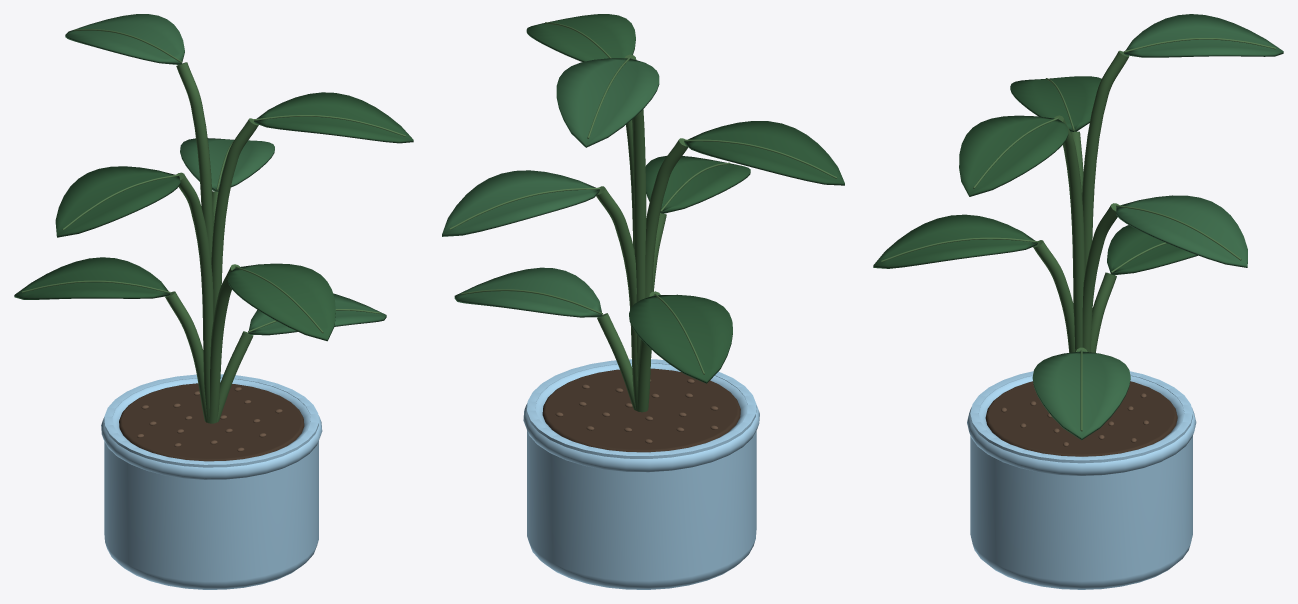
Rendered from plantTallBlue.glb.
The picture shows the model from 3 angles, left to right: view 1: azimuth 30°, elevation 25°; view 2: azimuth 150°, elevation 25°; view 3: azimuth 270°, elevation 25°; orthographic projection. The views are drawn at different scales.
Visible parts, largest first — view 1: Ceramic planter, Soil, Leaf blade 3, Leaf blade 5, Leaf blade 6, Pot rim, Leaf blade 2, Leaf blade 7, Leaf blade 4, Stem.004, Stem.005, Stem.006 (+4 smaller); view 2: Ceramic planter, Soil, Leaf blade 7, Leaf blade 2, Leaf blade 4, Leaf blade 5, Pot rim, Leaf blade 1, Leaf blade 6, Leaf blade 3, Stem.006, Stem.004 (+3 smaller); view 3: Ceramic planter, Soil, Leaf blade 1, Leaf blade 6, Leaf blade 4, Leaf blade 3, Leaf blade 7, Pot rim, Leaf blade 5, Stem.005, Leaf blade 2, Stem.006 (+3 smaller).
Part boxes in pixels (left/top/right/bottom): Ceramic planter: left=104, top=374, right=318, bottom=589; Soil: left=119, top=383, right=304, bottom=461; Leaf blade 3: left=227, top=263, right=335, bottom=341; Leaf blade 5: left=55, top=166, right=180, bottom=237; Leaf blade 6: left=254, top=92, right=413, bottom=143; Pot rim: left=101, top=378, right=322, bottom=479; Leaf blade 2: left=14, top=257, right=170, bottom=299; Leaf blade 7: left=65, top=14, right=184, bottom=64; Leaf blade 4: left=180, top=138, right=274, bottom=191; Stem.004: left=176, top=172, right=213, bottom=423; Stem.005: left=211, top=118, right=258, bottom=319; Stem.006: left=176, top=62, right=213, bottom=260; Ceramic planter: left=527, top=359, right=756, bottom=589; Soil: left=542, top=368, right=740, bottom=452; Leaf blade 7: left=556, top=58, right=659, bottom=147; Leaf blade 2: left=629, top=294, right=732, bottom=383; Leaf blade 4: left=442, top=170, right=599, bottom=236; Leaf blade 5: left=684, top=121, right=844, bottom=185; Pot rim: left=523, top=363, right=759, bottom=472; Leaf blade 1: left=454, top=267, right=602, bottom=317; Leaf blade 6: left=526, top=14, right=635, bottom=61; Leaf blade 3: left=645, top=156, right=750, bottom=213; Stem.006: left=624, top=54, right=646, bottom=376; Stem.004: left=645, top=138, right=688, bottom=409; Ceramic planter: left=970, top=371, right=1192, bottom=589; Soil: left=985, top=381, right=1177, bottom=456; Leaf blade 1: left=1032, top=351, right=1130, bottom=440; Leaf blade 6: left=959, top=115, right=1068, bottom=196; Leaf blade 4: left=1116, top=195, right=1247, bottom=267; Leaf blade 3: left=873, top=214, right=1037, bottom=268; Leaf blade 7: left=1124, top=14, right=1283, bottom=57; Pot rim: left=967, top=376, right=1196, bottom=475; Leaf blade 5: left=1010, top=76, right=1101, bottom=131; Stem.005: left=1054, top=115, right=1084, bottom=351; Leaf blade 2: left=1107, top=225, right=1197, bottom=275; Stem.006: left=1082, top=50, right=1129, bottom=272.
Size of the model in its own units: 1.23 by 1.64 by 1.22.
